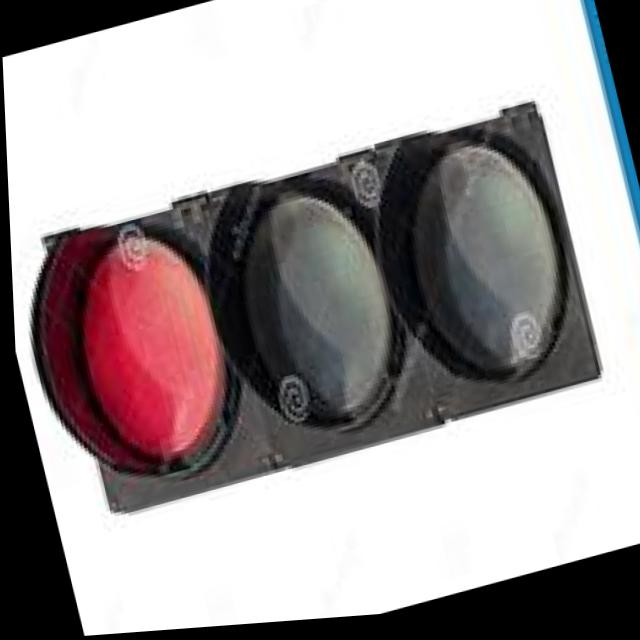red_light: (19, 211, 246, 473)
